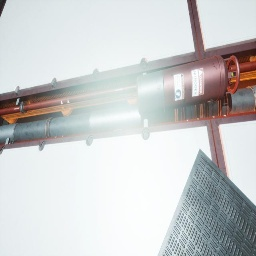NitrogenTank ,: (136, 55, 240, 116)
